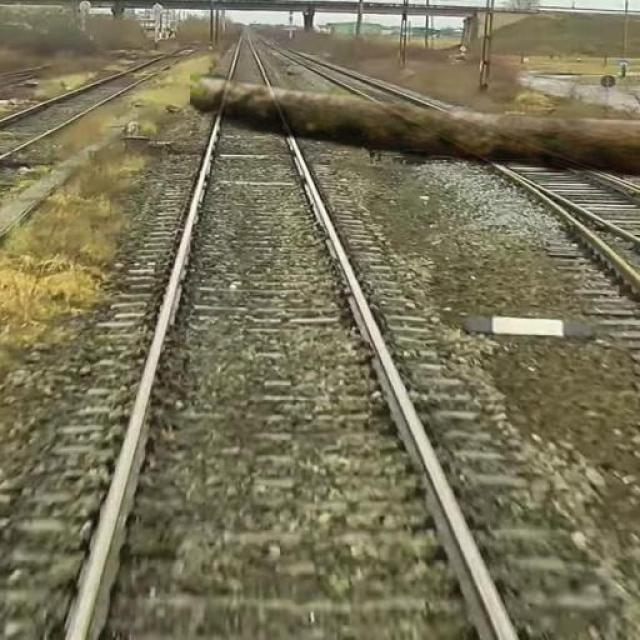Branches: (186, 66, 640, 193)
